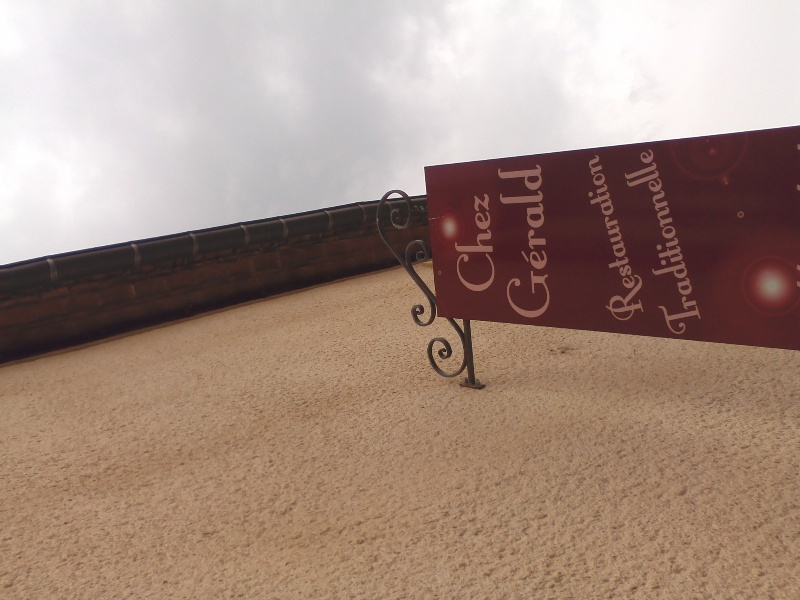text: (657, 146, 672, 340), (673, 146, 688, 340), (689, 146, 704, 340), (609, 152, 624, 325), (625, 152, 640, 325), (641, 152, 656, 325), (497, 162, 512, 320), (513, 162, 528, 320), (529, 162, 544, 320), (465, 192, 480, 294), (481, 192, 496, 294), (545, 162, 554, 320), (452, 192, 464, 294), (601, 152, 608, 325), (705, 146, 709, 340), (653, 146, 656, 340), (497, 192, 499, 294), (657, 152, 658, 325), (495, 162, 496, 320)
